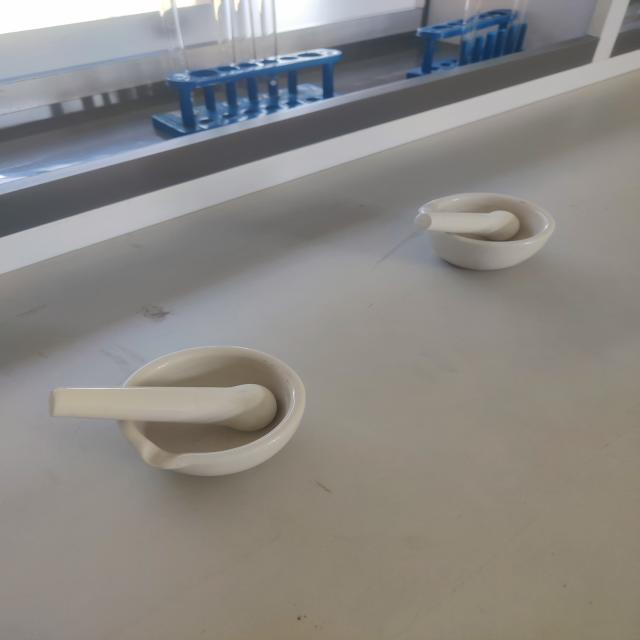Porcelain_Mortar Pestle: (26, 301, 347, 507), (401, 172, 584, 292)
